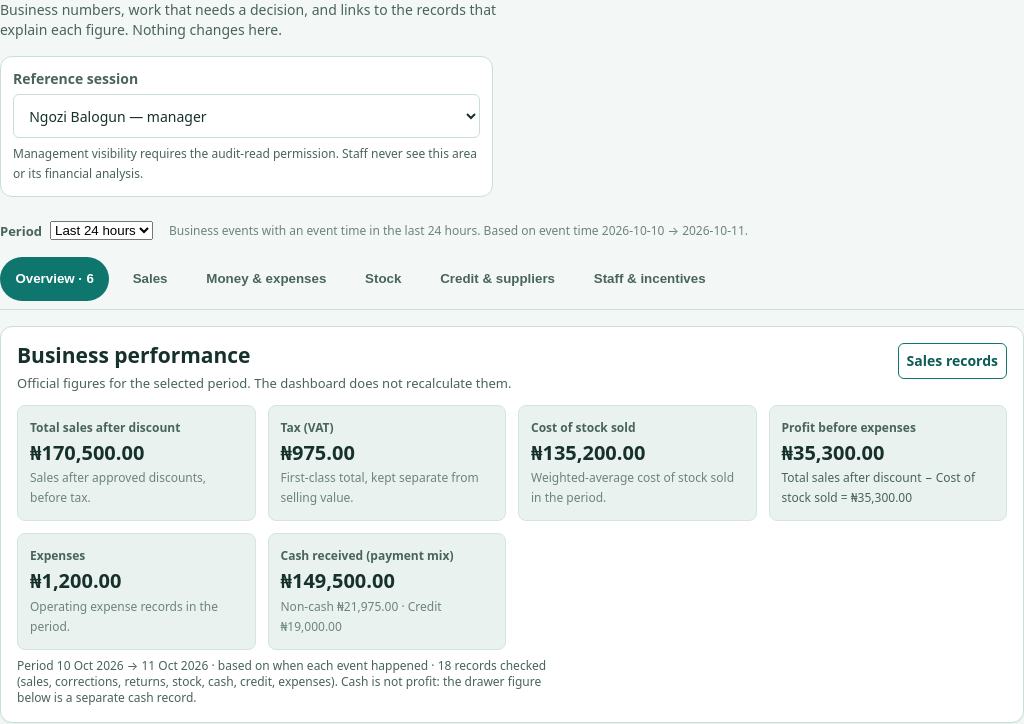
management dashboard › shows stock health from the inventory ledger including the negative-stock exception
Click the tab "Stock": (383, 279) top-left (350, 257), bottom-right (417, 301)
(page scrolled)
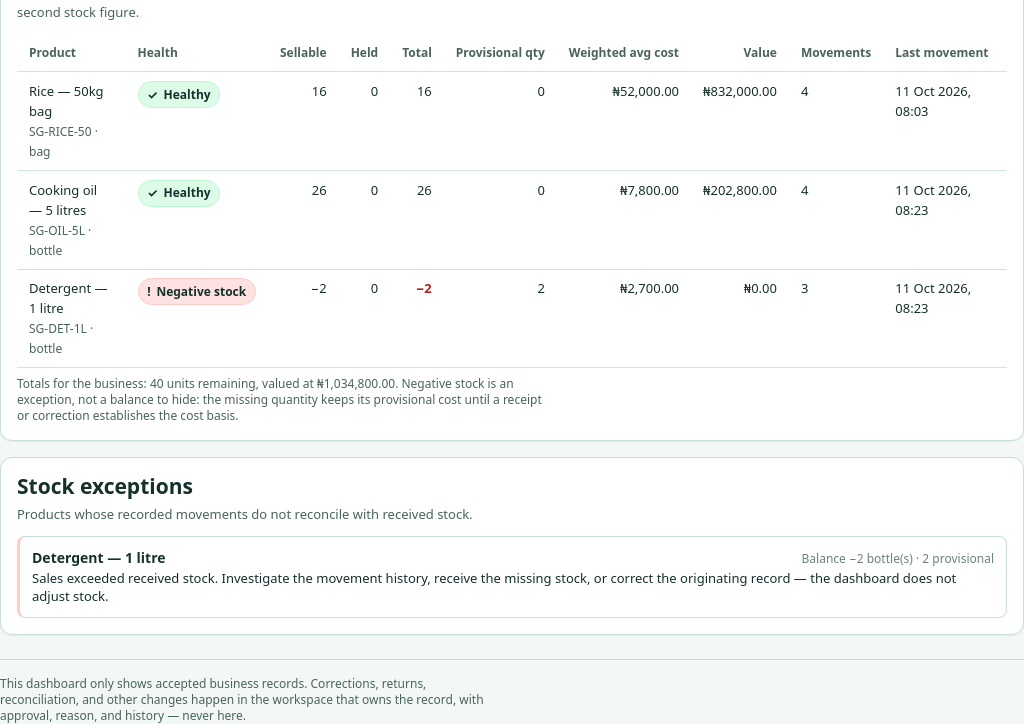
Now the text "Rice — 50kg bag" is shown, box top-left (29, 82), bottom-right (104, 120)
Now the text "Cooking oil — 5 litres" is shown, box top-left (29, 181), bottom-right (97, 219)
Now the text "Negative stock" is shown, box top-left (156, 283), bottom-right (246, 300)
